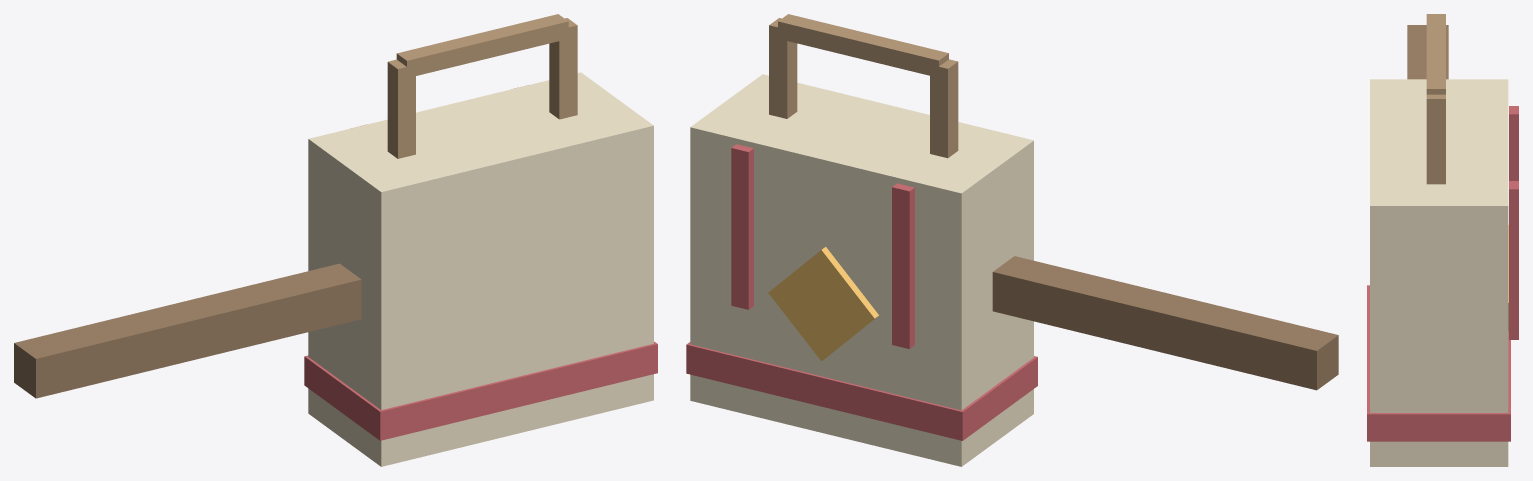
The model's file is ShoppingBagWeapon.glb.
3 views of the same model, side by side, from view 1: azimuth 30°, elevation 25°; view 2: azimuth 150°, elevation 25°; view 3: azimuth 270°, elevation 25° (orthographic). The views are drawn at different scales.
Parts seen in each view (by area): view 1: ShoppingBagWeapon; view 2: ShoppingBagWeapon; view 3: ShoppingBagWeapon.
Boxes of the visible parts, <box> form: ShoppingBagWeapon: <box>14,14,657,466</box>; ShoppingBagWeapon: <box>686,14,1338,466</box>; ShoppingBagWeapon: <box>1367,14,1518,466</box>.
Bounding box in the file's own units: 2.38 × 1.4 × 0.548.
